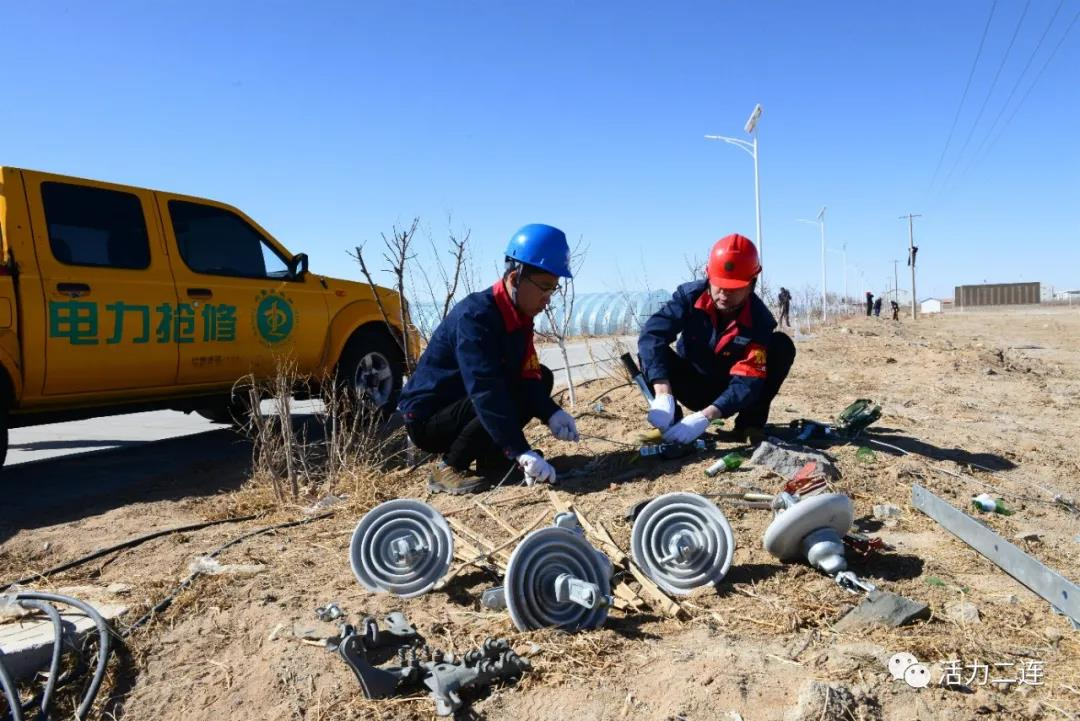safetyhat: (404, 205, 591, 513), (612, 219, 809, 457)
